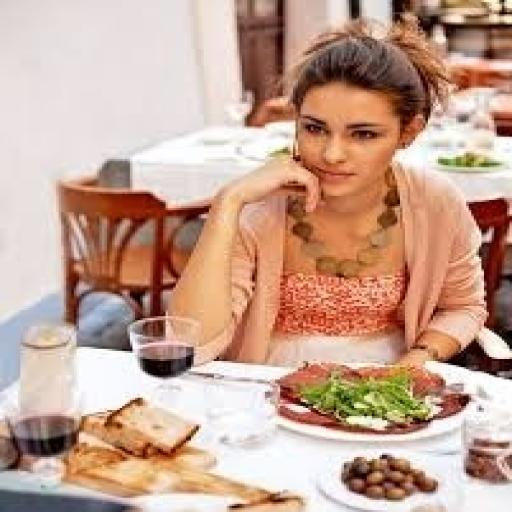eating: (163, 14, 492, 369)
